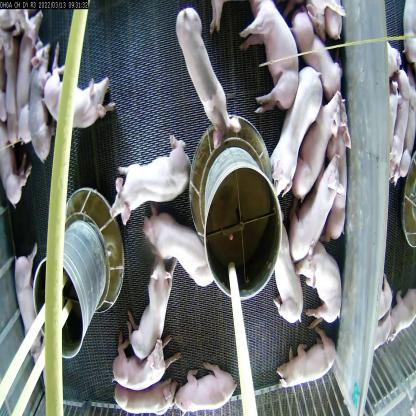Pig: (174, 7, 237, 148), (107, 140, 196, 229), (145, 215, 230, 307), (273, 99, 340, 202), (275, 58, 320, 207), (243, 0, 300, 116), (122, 249, 180, 360), (285, 150, 338, 259), (290, 4, 343, 110), (7, 248, 50, 374), (51, 64, 122, 140), (302, 231, 350, 328), (280, 326, 339, 398), (176, 356, 242, 416), (269, 236, 304, 336), (27, 42, 53, 166), (110, 336, 162, 391), (327, 106, 346, 252), (110, 386, 177, 415), (312, 0, 348, 52)
